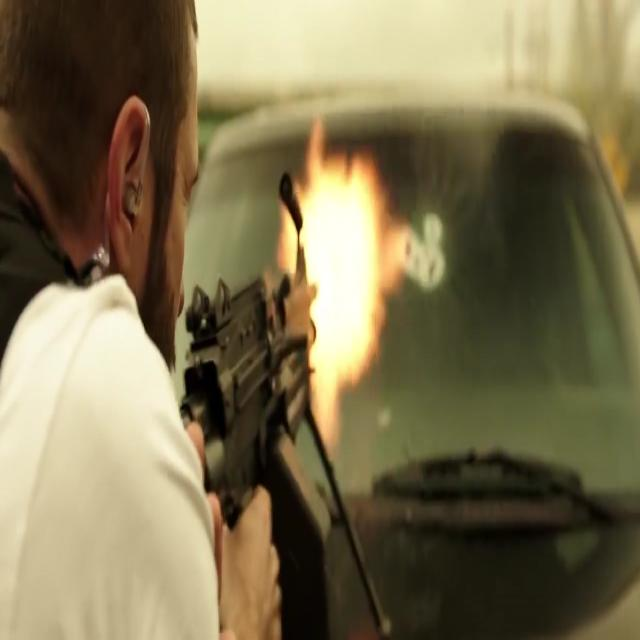Weapon: (156, 193, 360, 609)
